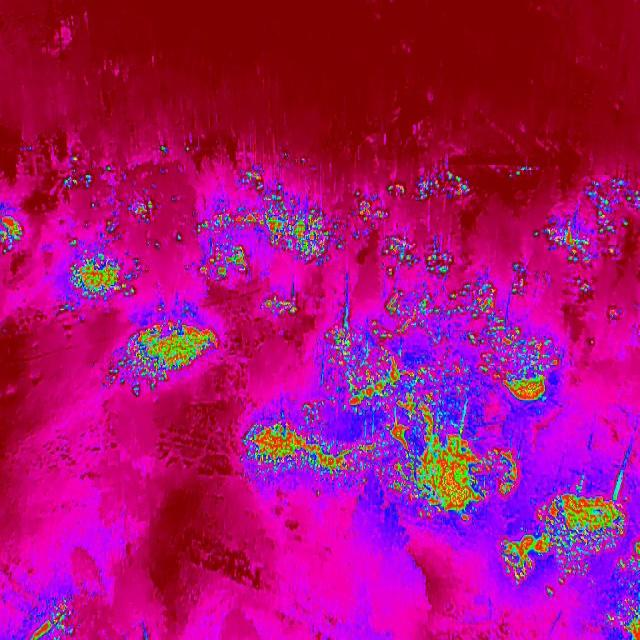fire: (388, 273, 562, 401), (378, 403, 520, 521), (502, 470, 628, 599), (192, 206, 342, 284), (322, 314, 426, 414), (242, 414, 374, 487), (106, 319, 220, 397), (536, 179, 640, 260), (64, 249, 142, 306), (378, 228, 462, 280), (384, 166, 472, 207), (605, 540, 640, 640), (238, 166, 308, 212), (24, 600, 74, 640), (121, 192, 166, 226), (352, 188, 391, 227), (56, 156, 96, 194), (0, 212, 23, 260), (264, 294, 298, 321), (181, 134, 199, 158), (576, 276, 594, 296), (89, 198, 104, 212)
